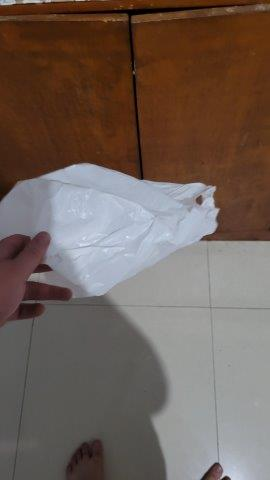plastik: (1, 162, 219, 297)
